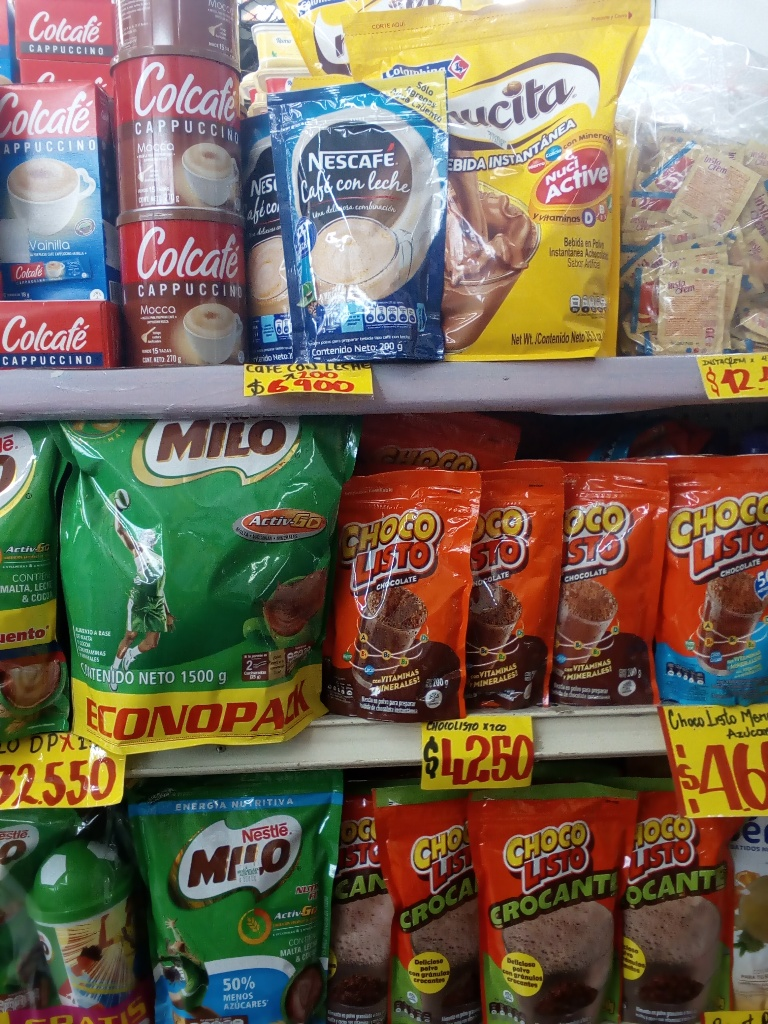COL0170102DYP25000: (468, 784, 625, 1024)
COL0170103DYP20000: (335, 478, 479, 720)
COL0170205DYP20000: (657, 455, 765, 704)
